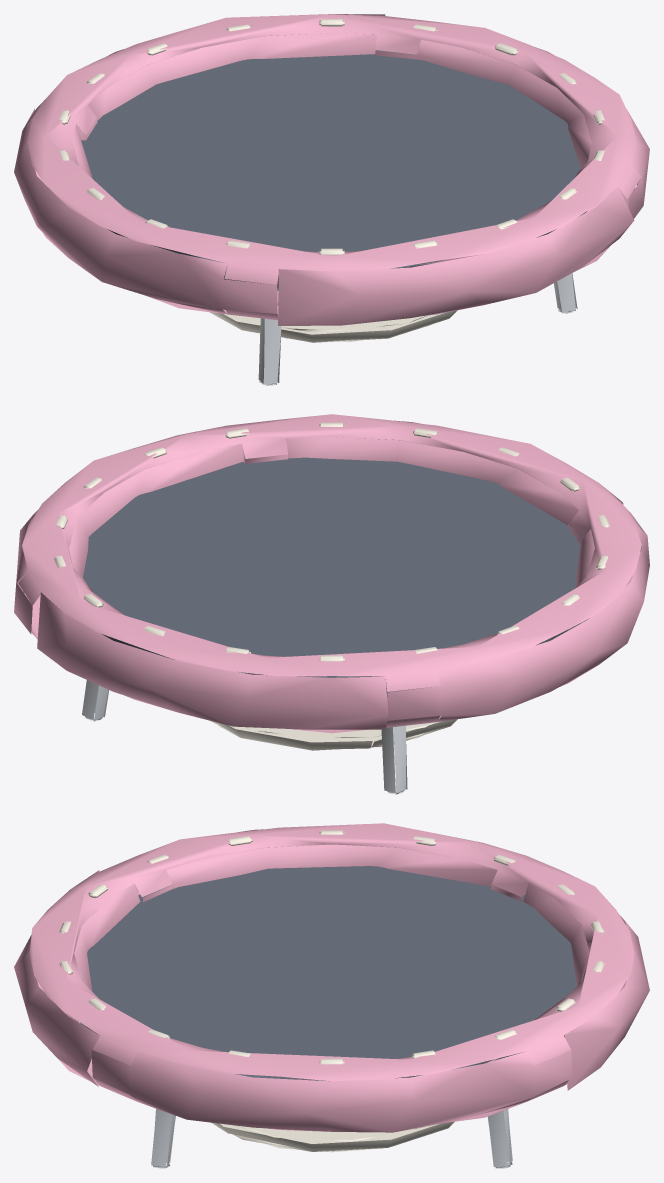
The model's file is trampoline_mini_pastel.glb.
The picture shows the model from 3 angles, top to bottom: view 1: azimuth 30°, elevation 25°; view 2: azimuth 150°, elevation 25°; view 3: azimuth 270°, elevation 25°; orthographic projection.
Visible parts, largest first — view 1: PinkRim, BlackNet, BasePlate, Leg_2, Leg_3; view 2: PinkRim, BlackNet, BasePlate, Leg_1, Leg_0; view 3: PinkRim, BlackNet, BasePlate, Leg_0, Leg_3.
Boxes of the visible parts, x1,y1,x2,y2 form: PinkRim: (14,14,649,325); BlackNet: (79,50,586,290); BasePlate: (210,310,457,342); Leg_2: (258,318,281,385); Leg_3: (554,273,577,313); PinkRim: (14,414,649,733); BlackNet: (83,457,589,697); BasePlate: (209,719,457,750); Leg_1: (381,725,407,794); Leg_0: (82,680,108,721); PinkRim: (14,823,649,1132); BlackNet: (79,866,576,1081); BasePlate: (211,1121,454,1152); Leg_0: (487,1109,512,1168); Leg_3: (151,1108,175,1168).
Size of the model in its own units: 2.5 by 0.6461 by 2.5.
